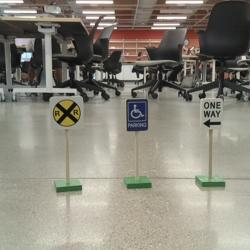handicap_parking: (125, 99, 148, 132)
one_way: (200, 98, 223, 130)
railroad_crossing: (49, 96, 84, 130)
